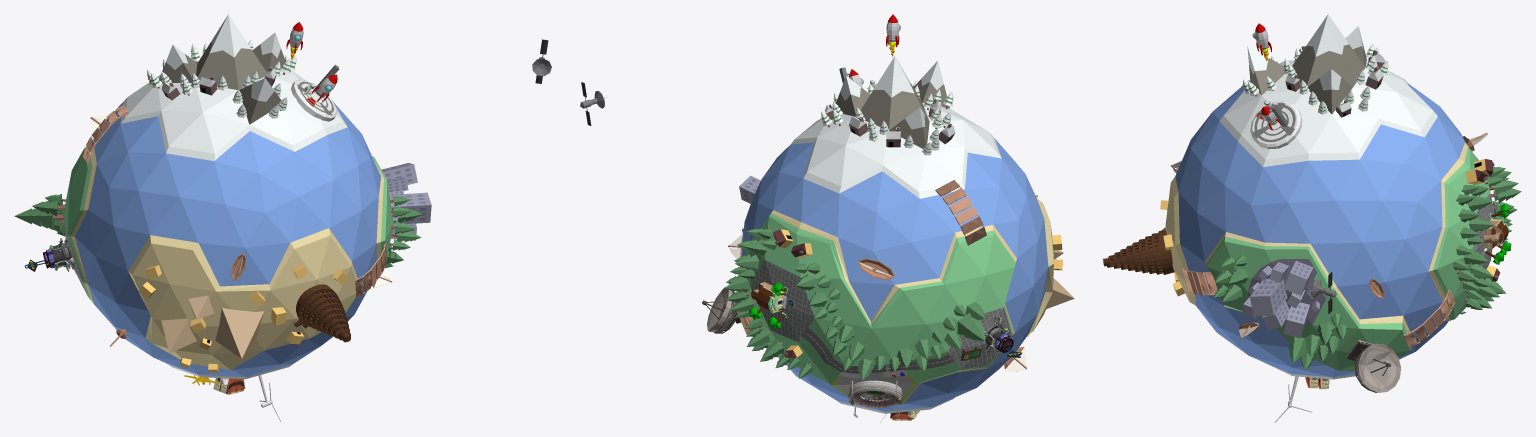
Rendered from Globe_v4.5.2.glb.
The picture shows the model from 3 angles, left to right: view 1: azimuth 30°, elevation 25°; view 2: azimuth 150°, elevation 25°; view 3: azimuth 270°, elevation 25°; orthographic projection. The views are drawn at different scales.
Visible parts, largest first — view 1: Planet_Water_0.001, Planet_Sand_0.003, Planet_Snow_0.001, Snow_Pine_023_Tree_Bark_0.001, Base_010_House_Door_0.001, Planet_Sand_0.005, tower.004, Rocket Ship 01.003, Cone_035_Tree_Leaves_0.003, Cone_035_Tree_Leaves_0.001, Cone_236_Tree_Leaves_0.001, Planet_Sand_0.004 (+3 smaller); view 2: Planet_Water_0.001, Planet_Sand_0.005, Planet_Snow_0.001, Cone_236_Tree_Leaves_0.001, Snow_Pine_023_Tree_Bark_0.001, stadium001.004, Cube_Bridge_0.001, Plane.001, radio tele.002, Planet_Sand_0.003, basepin.001, Base_010_House_Door_0.001 (+3 smaller); view 3: Planet_Water_0.001, Planet_Snow_0.001, Planet_Sand_0.004, Snow_Pine_023_Tree_Bark_0.001, Cone_236_Tree_Leaves_0.001, Planet_Sand_0.005, Cone_035_Tree_Leaves_0.003, Cone_035_Tree_Leaves_0.001, Rocket Ship 01.003, radio tele.002, tower.004, Planet_Sand_0.003 (+4 smaller).
Boxes of the visible parts, x1,y1,x2,y2 form: Planet_Water_0.001: (75,100,380,376); Planet_Sand_0.003: (128,228,357,369); Planet_Snow_0.001: (120,61,347,379); Snow_Pine_023_Tree_Bark_0.001: (147,14,296,124); Base_010_House_Door_0.001: (138,264,348,372); Planet_Sand_0.005: (63,146,96,304); tower.004: (293,284,350,342); Rocket Ship 01.003: (286,22,339,121); Cone_035_Tree_Leaves_0.003: (381,163,431,240); Cone_035_Tree_Leaves_0.001: (385,196,421,268); Cone_236_Tree_Leaves_0.001: (14,194,65,236); Planet_Sand_0.004: (372,156,393,265); Planet_Water_0.001: (741,138,1048,411); Planet_Sand_0.005: (742,210,1016,404); Planet_Snow_0.001: (791,103,1001,413); Cone_236_Tree_Leaves_0.001: (724,228,984,380); Snow_Pine_023_Tree_Bark_0.001: (821,56,955,155); stadium001.004: (848,371,904,417); Cube_Bridge_0.001: (935,180,986,245); Plane.001: (749,282,795,328); radio tele.002: (702,287,741,333); Planet_Sand_0.003: (1028,198,1053,333); basepin.001: (984,316,1021,357); Base_010_House_Door_0.001: (1027,235,1074,336); Planet_Water_0.001: (1175,83,1465,377); Planet_Snow_0.001: (1219,59,1437,379); Planet_Sand_0.004: (1205,232,1411,371); Snow_Pine_023_Tree_Bark_0.001: (1243,14,1388,117); Cone_236_Tree_Leaves_0.001: (1453,159,1521,309); Planet_Sand_0.005: (1428,142,1495,321); Cone_035_Tree_Leaves_0.003: (1242,260,1319,338); Cone_035_Tree_Leaves_0.001: (1214,255,1347,370); Rocket Ship 01.003: (1250,23,1302,149); radio tele.002: (1346,340,1400,392); tower.004: (1103,230,1174,274); Planet_Sand_0.003: (1165,177,1195,305).
Size of the model in its own units: 6.26 by 4.97 by 4.66.
77 materials, 17 textured.
